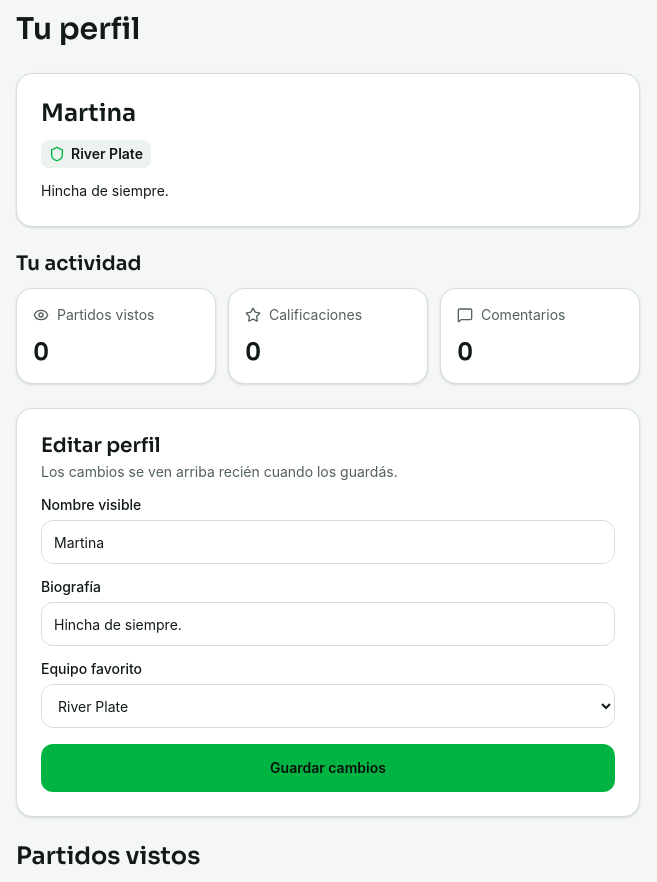
it: ProfilePage: encabezado › refleja lo guardado recién cuando la API lo confirma, no lo que se tipea
Expected: the heading "Martina" is shown, [41,98,136,128]
Replace the text in the field labelled "Nombre visible" with "Otra": coordinates (328, 542) [41,520,615,564]
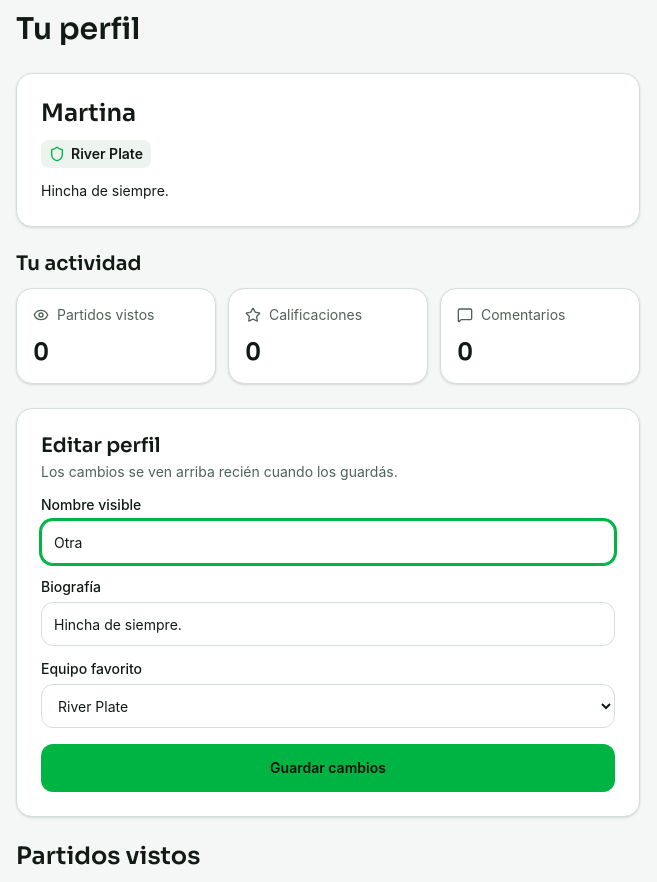
Expected: the heading "Martina" is shown, [41,98,136,128]
Click the button "Guardar cambios": coordinates (328, 768) [41,744,615,792]
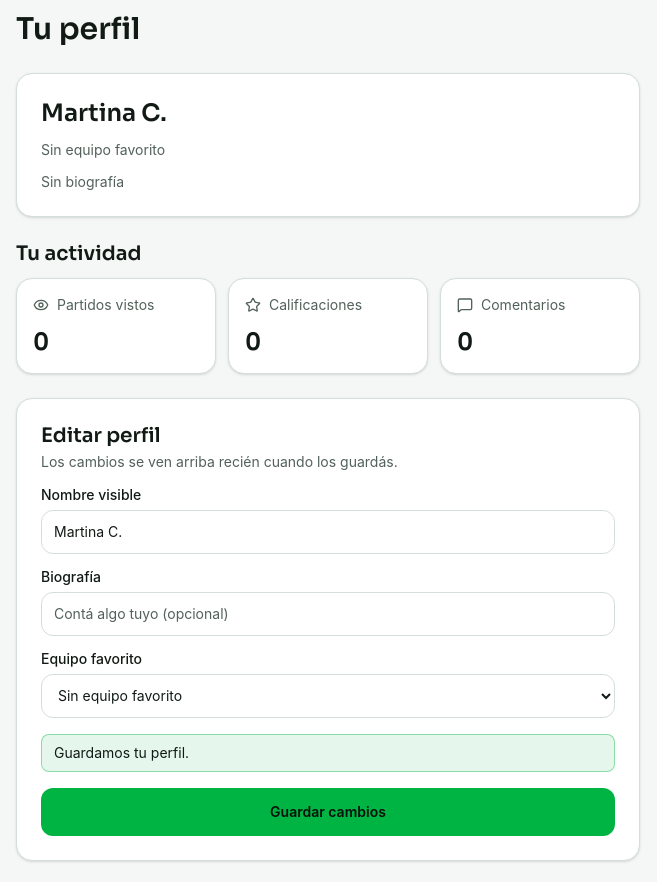
Now the heading "Martina C." is shown, box [41,98,167,128]
Now the text "Sin equipo favorito" is shown, box [41,140,165,158]
Now the text "Sin biografía" is shown, box [41,172,124,190]
